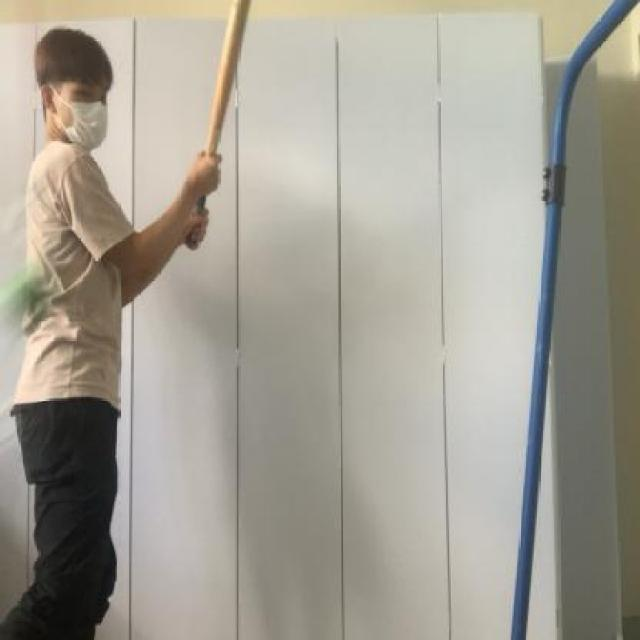baseball: (1, 257, 67, 332)
